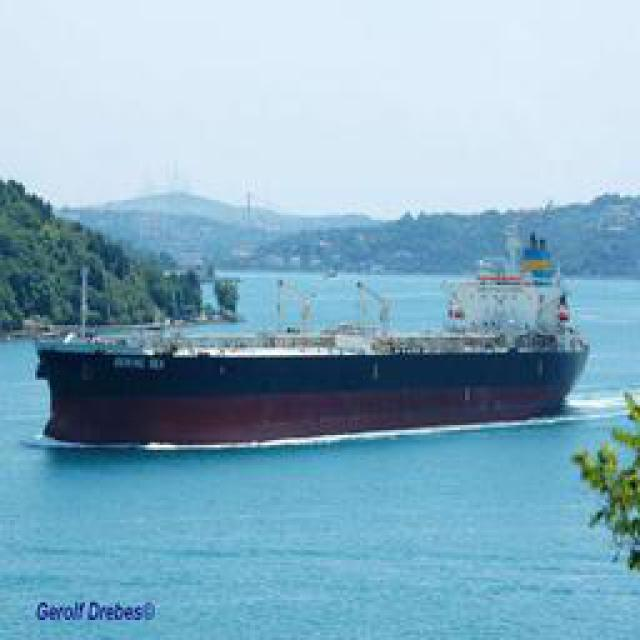Ship: (40, 241, 593, 451)
